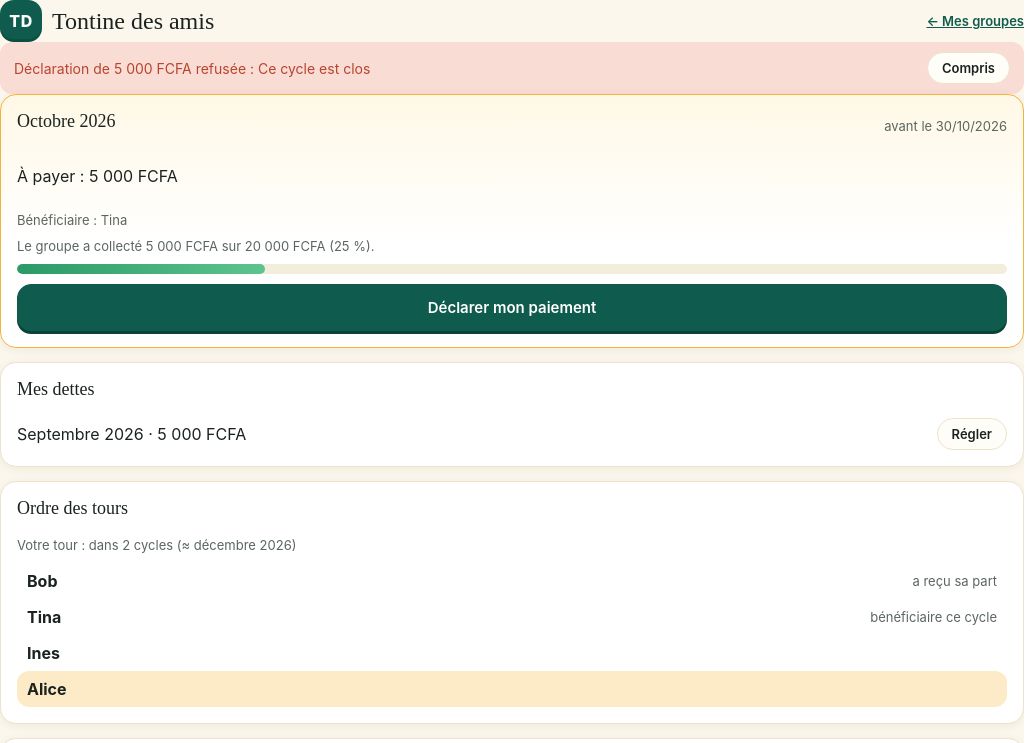
espace membre › déclaration refusée en différé : motif affiché, puis « Compris » la retire
The image size is (1036, 743).
Expected: the text "Déclaration de 5 000 FCFA refusée : Ce cycle est clos" is shown, [14,60,370,76]
Click the button "Compris".
click(968, 68)  # box [927,52,1010,84]
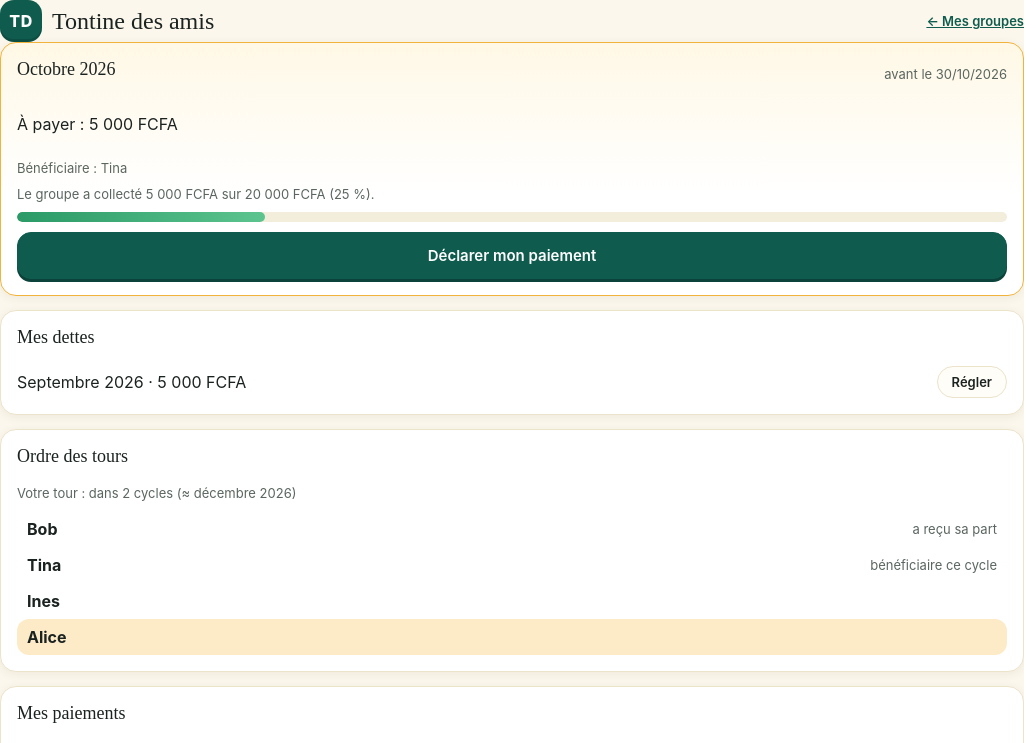
Now the text "refusée" is gone
